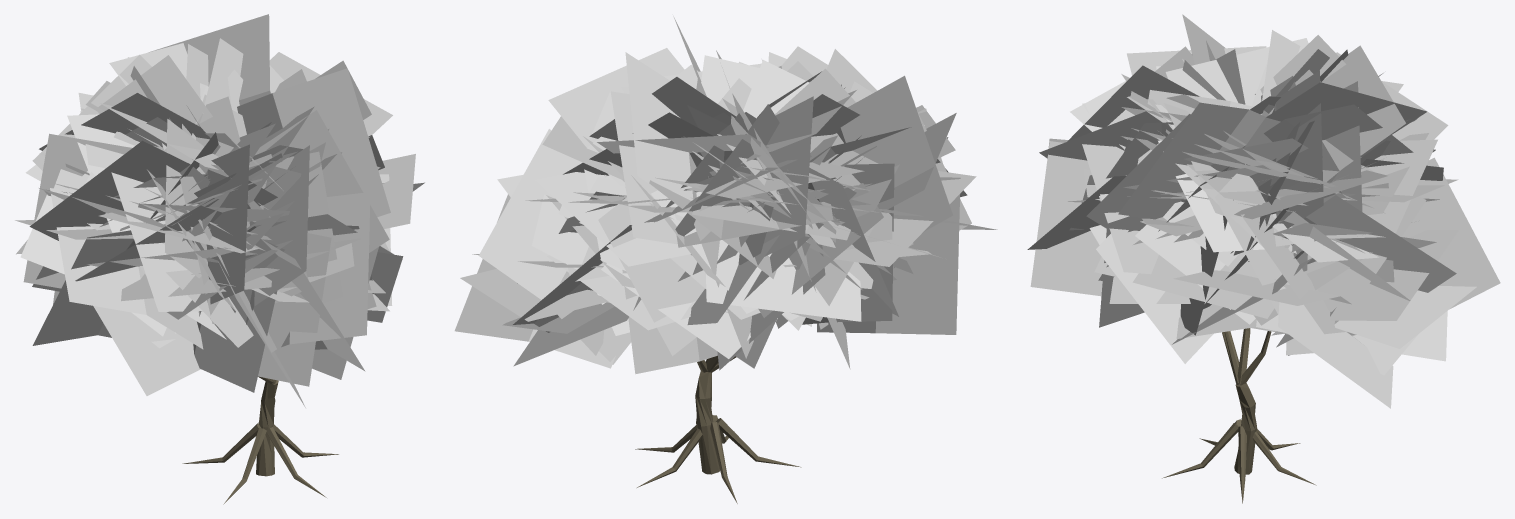
The model's file is Oleastre_Jeune_LOD2.fbx.
3 views of the same model, side by side, from view 1: azimuth 30°, elevation 25°; view 2: azimuth 150°, elevation 25°; view 3: azimuth 270°, elevation 25° (orthographic). The views are drawn at different scales.
Parts seen in each view (by area): view 1: Oleastre_Jeune_LOD2; view 2: Oleastre_Jeune_LOD2; view 3: Oleastre_Jeune_LOD2.
Part boxes in pixels (left/top/right/bottom): Oleastre_Jeune_LOD2: left=15, top=14, right=424, bottom=504; Oleastre_Jeune_LOD2: left=454, top=16, right=997, bottom=503; Oleastre_Jeune_LOD2: left=1027, top=14, right=1500, bottom=503.
Size of the model in its own units: 356 by 346 by 362.
